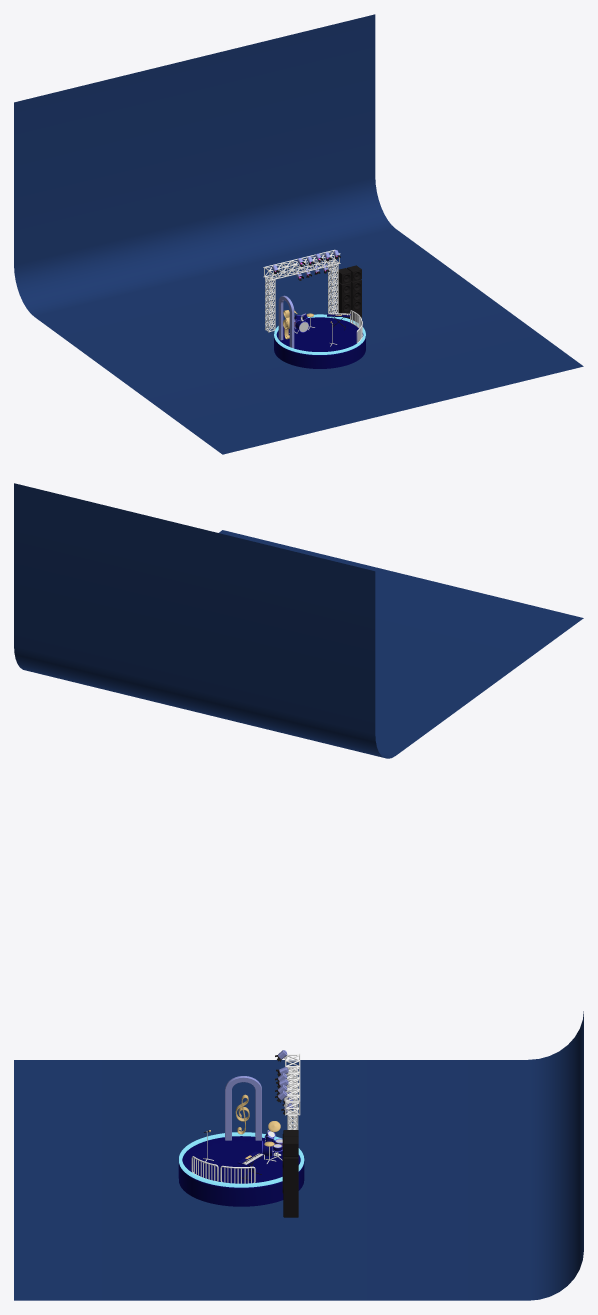
Rendered from sound-stage-final.glb.
The picture shows the model from 3 angles, top to bottom: view 1: azimuth 30°, elevation 25°; view 2: azimuth 150°, elevation 25°; view 3: azimuth 270°, elevation 25°; orthographic projection. The views are drawn at different scales.
Parts seen in each view (by area): view 1: Plane.014, Circle.001, Plane.015, Plane.006, Plane.010, Circle.041; view 2: Plane.014; view 3: Plane.014, Circle.001, Circle.041, Plane.010, Plane.004, Plane.006.
Part boxes in pixels (left/top/right/bottom): Plane.014: left=14, top=14, right=583, bottom=454; Circle.001: left=274, top=317, right=365, bottom=368; Plane.015: left=265, top=261, right=338, bottom=332; Plane.006: left=263, top=249, right=340, bottom=281; Plane.010: left=278, top=295, right=294, bottom=348; Circle.041: left=274, top=314, right=365, bottom=354; Plane.014: left=14, top=483, right=583, bottom=758; Plane.014: left=14, top=1011, right=583, bottom=1300; Circle.001: left=178, top=1136, right=304, bottom=1206; Circle.041: left=179, top=1132, right=304, bottom=1187; Plane.010: left=225, top=1076, right=261, bottom=1140; Plane.004: left=283, top=1156, right=298, bottom=1217; Plane.006: left=285, top=1053, right=300, bottom=1115.
Size of the model in its own units: 36.07 by 19.46 by 36.07.
